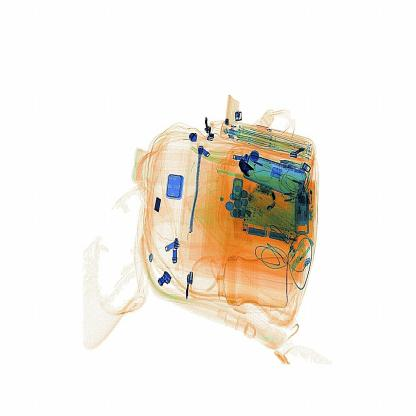pliers: (236, 150, 258, 186)
